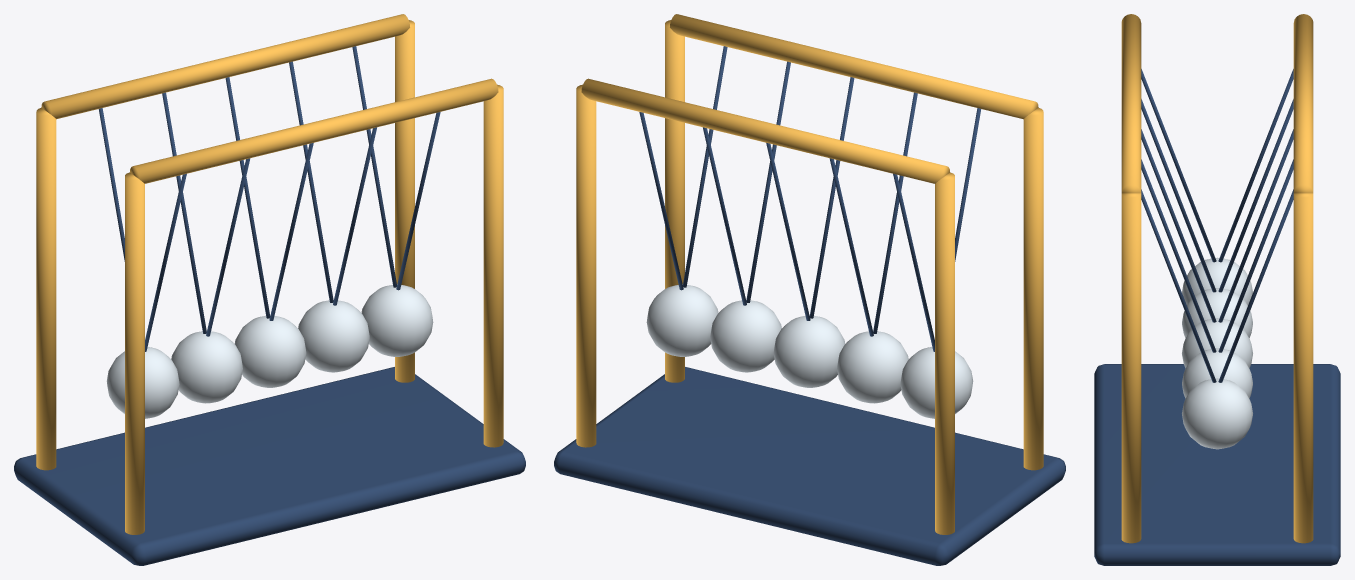
The model's file is newton-cradle-lite.glb.
The picture shows the model from 3 angles, left to right: view 1: azimuth 30°, elevation 25°; view 2: azimuth 150°, elevation 25°; view 3: azimuth 270°, elevation 25°; orthographic projection. The views are drawn at different scales.
Parts seen in each view (by area): view 1: Base; view 2: Base; view 3: Base.
Boxes of the visible parts, left/top/right/bottom form: Base: left=14, top=14, right=525, bottom=565; Base: left=554, top=14, right=1065, bottom=565; Base: left=1094, top=14, right=1340, bottom=565.
Size of the model in its own units: 1.8 by 1.69 by 1.
